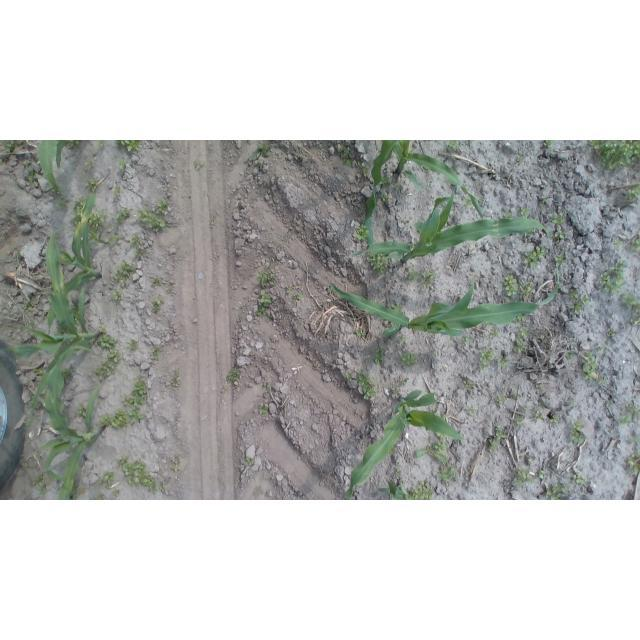Maize: (342, 185, 559, 271), (7, 226, 101, 418), (328, 267, 561, 341), (347, 389, 467, 500), (36, 345, 105, 500), (363, 141, 485, 221), (47, 186, 105, 330), (39, 140, 68, 190), (379, 480, 411, 501)
Weeds: (118, 456, 163, 492), (591, 140, 639, 172), (137, 200, 169, 233), (599, 261, 627, 296), (416, 433, 449, 461), (101, 408, 144, 429), (345, 371, 376, 400), (95, 349, 121, 382), (123, 376, 147, 408), (408, 268, 437, 290), (89, 210, 108, 240), (522, 246, 546, 268), (113, 261, 134, 286), (220, 368, 240, 393), (478, 344, 496, 371), (130, 237, 151, 260), (488, 424, 505, 452), (514, 465, 535, 487), (583, 351, 598, 381), (619, 404, 640, 425), (621, 292, 640, 315), (412, 481, 436, 499), (571, 293, 592, 313), (71, 197, 85, 226), (256, 270, 277, 288), (97, 332, 119, 349), (545, 483, 568, 499), (367, 255, 387, 273), (2, 141, 23, 158), (32, 474, 48, 496), (571, 422, 586, 445), (438, 465, 457, 483), (393, 378, 412, 395), (626, 451, 640, 474), (624, 182, 640, 202), (25, 161, 38, 185), (504, 275, 518, 297), (400, 351, 419, 367), (338, 146, 353, 166), (516, 327, 529, 350), (115, 141, 142, 152), (255, 141, 271, 159), (116, 208, 133, 224), (355, 223, 369, 241), (520, 282, 534, 299), (99, 470, 116, 484), (372, 346, 385, 364), (85, 180, 100, 195), (259, 291, 273, 307), (286, 287, 303, 300), (152, 295, 164, 313), (512, 415, 526, 430), (554, 253, 567, 268), (551, 212, 566, 225), (23, 301, 37, 314), (49, 184, 64, 196), (629, 238, 640, 254), (498, 355, 511, 368), (460, 335, 473, 348), (463, 380, 477, 392), (172, 457, 183, 472), (445, 140, 461, 150), (85, 160, 97, 173), (489, 329, 503, 340), (262, 377, 270, 396), (388, 302, 403, 312), (151, 345, 160, 361), (111, 288, 123, 300), (54, 199, 67, 210), (555, 231, 568, 242), (209, 214, 217, 231), (573, 474, 585, 485), (119, 156, 130, 168), (63, 367, 74, 379), (128, 339, 139, 351), (255, 306, 266, 318), (77, 405, 88, 417), (627, 436, 640, 446), (360, 162, 369, 176), (248, 153, 259, 164), (150, 278, 162, 288), (72, 309, 80, 324), (165, 281, 173, 296), (381, 175, 391, 187), (496, 394, 506, 405), (30, 401, 41, 411), (534, 411, 545, 421), (630, 315, 640, 326), (171, 375, 180, 387), (520, 207, 532, 216), (32, 366, 44, 375), (244, 456, 252, 469), (597, 375, 607, 385), (521, 404, 531, 414), (514, 313, 524, 323), (598, 343, 609, 352), (544, 141, 555, 150), (380, 193, 389, 204), (512, 393, 523, 402), (607, 328, 616, 339), (66, 141, 80, 148), (521, 229, 533, 237), (90, 494, 106, 500), (564, 398, 576, 406), (542, 194, 550, 206), (97, 141, 110, 148), (517, 154, 526, 164), (260, 405, 269, 415), (570, 290, 580, 299), (466, 406, 476, 415), (196, 162, 205, 171), (566, 353, 575, 362), (538, 470, 547, 479), (355, 330, 365, 338), (113, 185, 121, 195), (111, 488, 121, 496), (606, 400, 616, 408), (550, 413, 558, 423), (438, 414, 447, 422), (614, 237, 622, 245), (392, 183, 402, 189), (535, 382, 544, 388), (504, 213, 513, 219), (399, 336, 406, 343), (282, 236, 290, 242), (266, 263, 271, 268), (266, 318, 271, 322)
